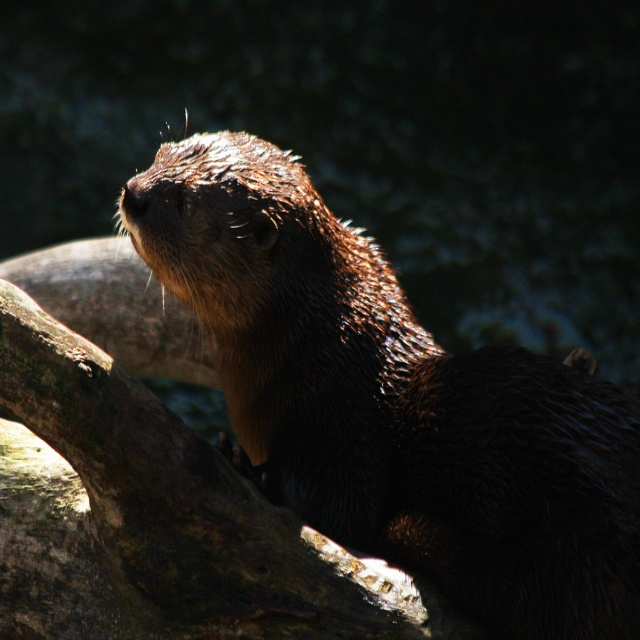Otter: (113, 110, 640, 639)
